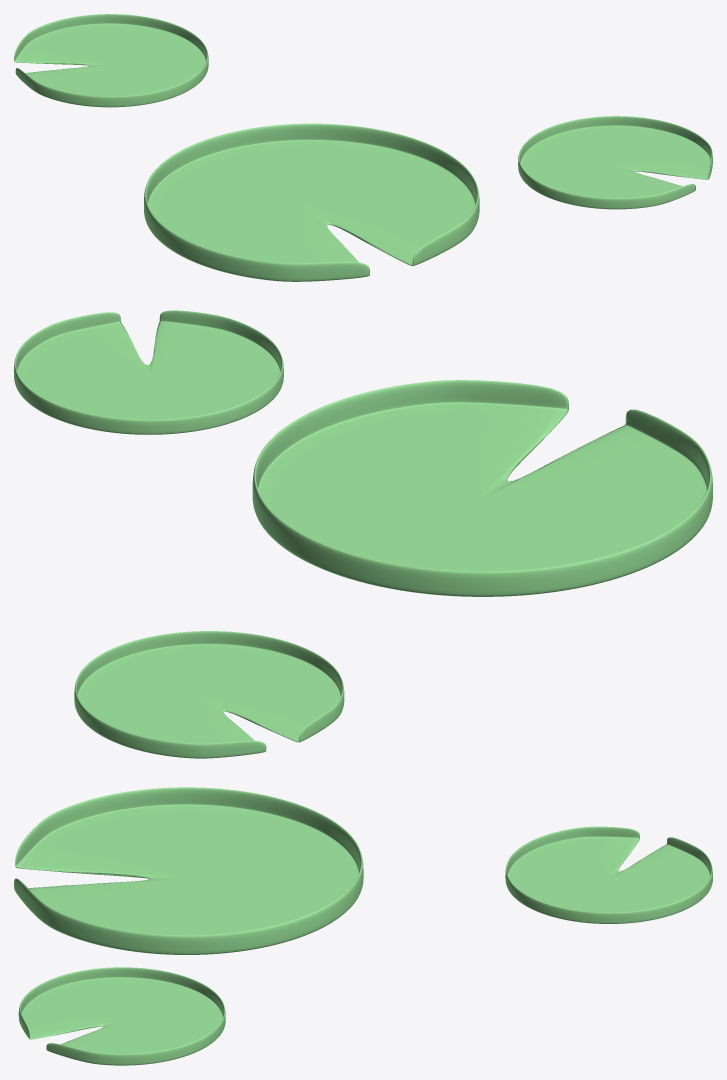
Rendered from nenuphar.fbx.
3 views of the same model, one above another, from view 1: azimuth 30°, elevation 25°; view 2: azimuth 150°, elevation 25°; view 3: azimuth 270°, elevation 25° (orthographic). The views are drawn at different scales.
Visible parts, largest first — view 1: Circle, Circle.001, Circle.002; view 2: Circle, Circle.002, Circle.001; view 3: Circle, Circle.001, Circle.002.
Part boxes in pixels (left/top/right/bottom): Circle: left=144, top=123, right=479, bottom=281; Circle.001: left=518, top=116, right=712, bottom=209; Circle.002: left=14, top=14, right=208, bottom=107; Circle: left=252, top=380, right=712, bottom=596; Circle.002: left=74, top=631, right=344, bottom=758; Circle.001: left=14, top=310, right=283, bottom=434; Circle: left=14, top=787, right=363, bottom=954; Circle.001: left=18, top=967, right=225, bottom=1065; Circle.002: left=505, top=826, right=712, bottom=923.
Size of the model in its own units: 913 by 32.76 by 1039.
